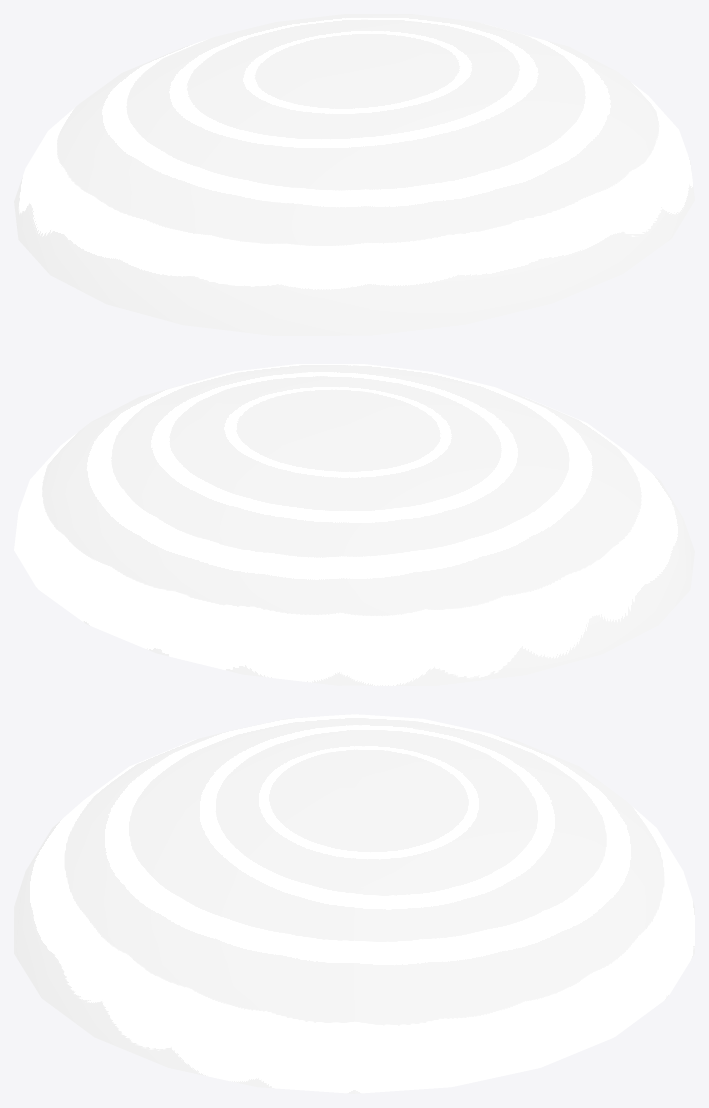
File: ChargeWindModel1.glb
3 renders of one model, top to bottom at view 1: azimuth 30°, elevation 25°; view 2: azimuth 150°, elevation 25°; view 3: azimuth 270°, elevation 25°, orthographic. The views are drawn at different scales.
Visible parts, largest first — view 1: expanding-dome; view 2: expanding-dome; view 3: expanding-dome.
Part boxes in pixels (bbox=[...]): expanding-dome: bbox=[14, 14, 694, 335]; expanding-dome: bbox=[14, 364, 694, 685]; expanding-dome: bbox=[14, 714, 694, 1093].
Bounding box in the file's own units: 2.07 × 0.4199 × 1.82.
Materials: 2 (2 with a texture image).
